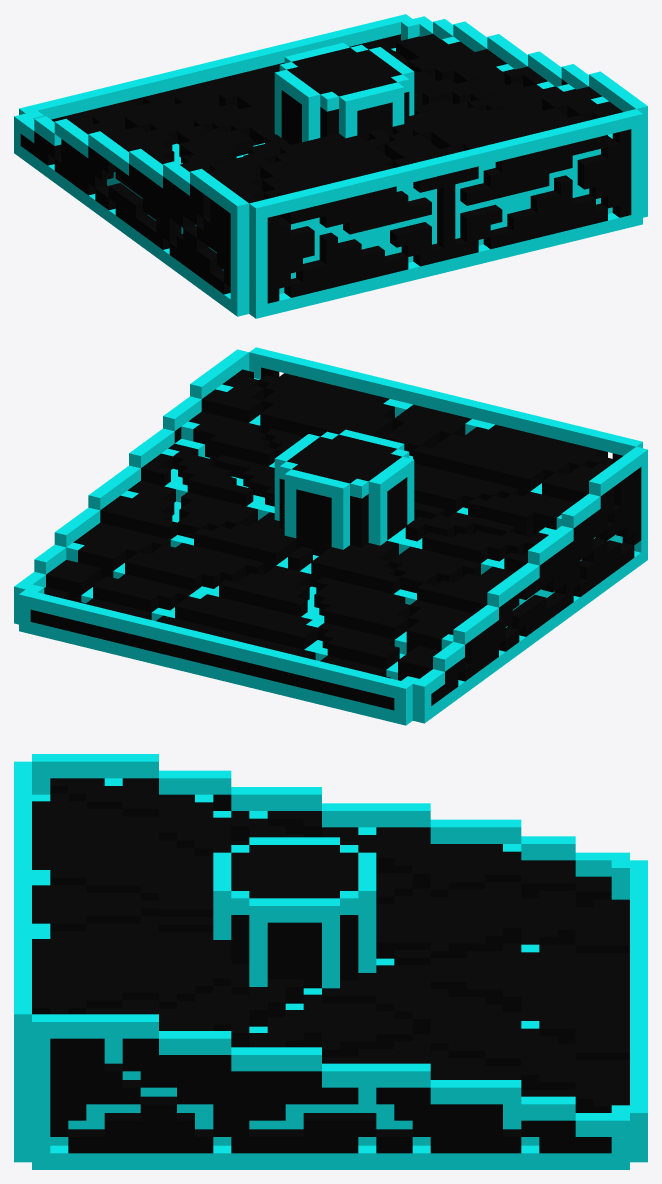
The model's file is MissileTurretStand.FBX.
3 renders of one model, top to bottom at view 1: azimuth 30°, elevation 25°; view 2: azimuth 150°, elevation 25°; view 3: azimuth 270°, elevation 25°, orthographic. The views are drawn at different scales.
Parts seen in each view (by area): view 1: MissileTurretStand; view 2: MissileTurretStand; view 3: MissileTurretStand.
Part boxes in pixels (x1,y1,x2,y2): MissileTurretStand: [14, 14, 647, 318]; MissileTurretStand: [14, 347, 647, 725]; MissileTurretStand: [14, 754, 647, 1169].
Size of the model in its own units: 35 by 35 by 10.
